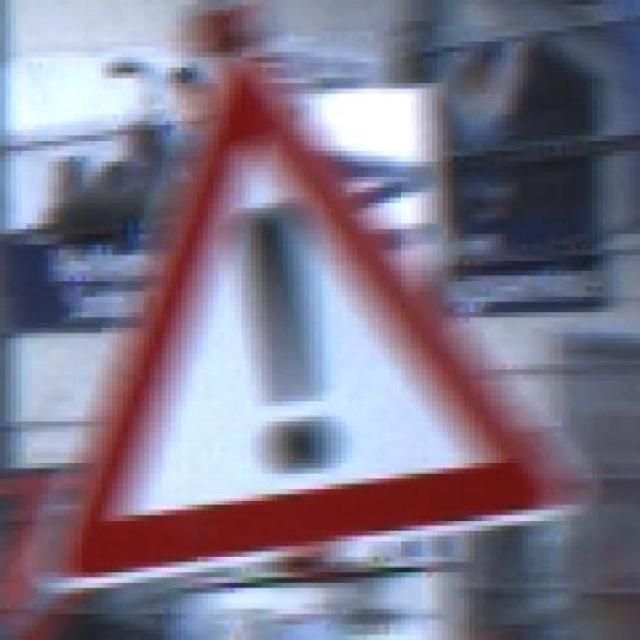Attention Please-: (53, 57, 587, 583)
